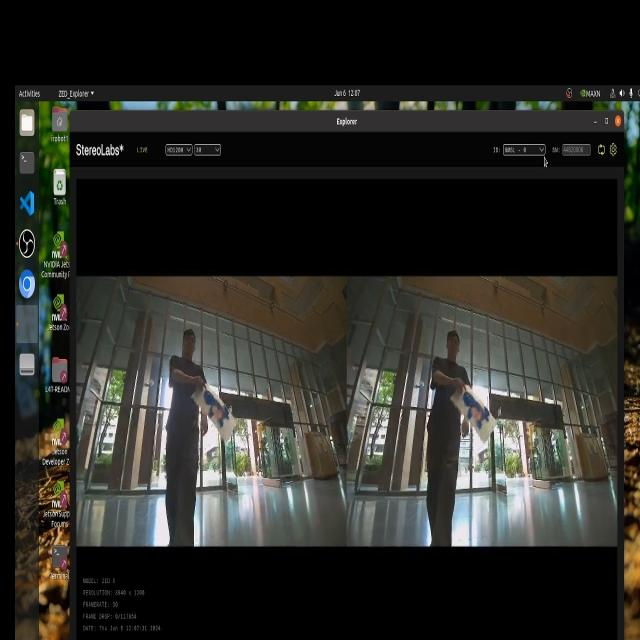blue: (462, 390, 494, 435), (207, 395, 233, 435)
